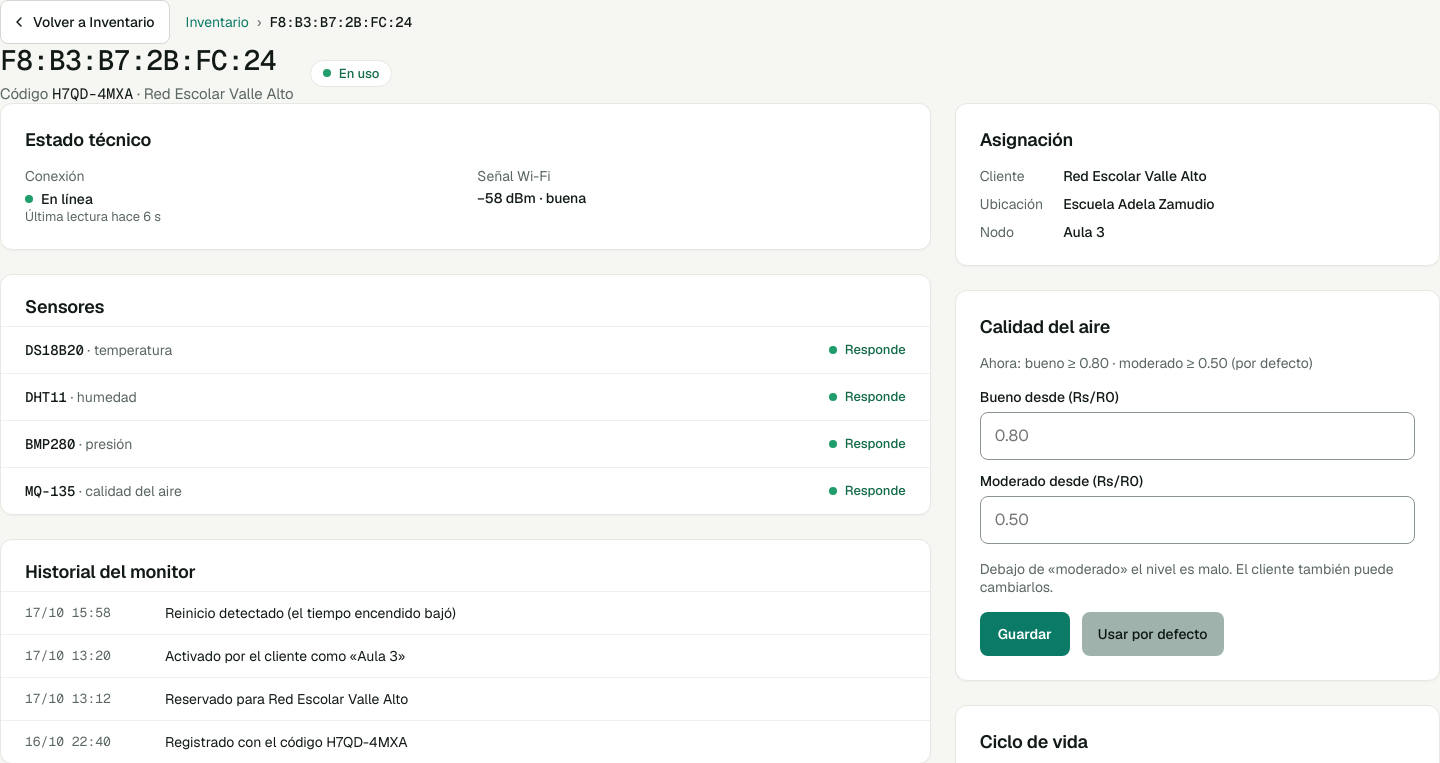
Test: MonitorFicha › guarda los cortes del aire del monitor y vuelve a los de por defecto
Expected: the heading "F8:B3:B7:2B:FC:24" is shown, [0, 44, 294, 78]
Expected: the element "Calidad del aire" shows "bueno ≥ 0.80 · moderado ≥ 0.50 (por defecto)", [1025, 354, 1313, 372]
Type "0.5" into the field labelled "Bueno desde (Rs/R0)" at (1197, 436), box [980, 412, 1415, 460]
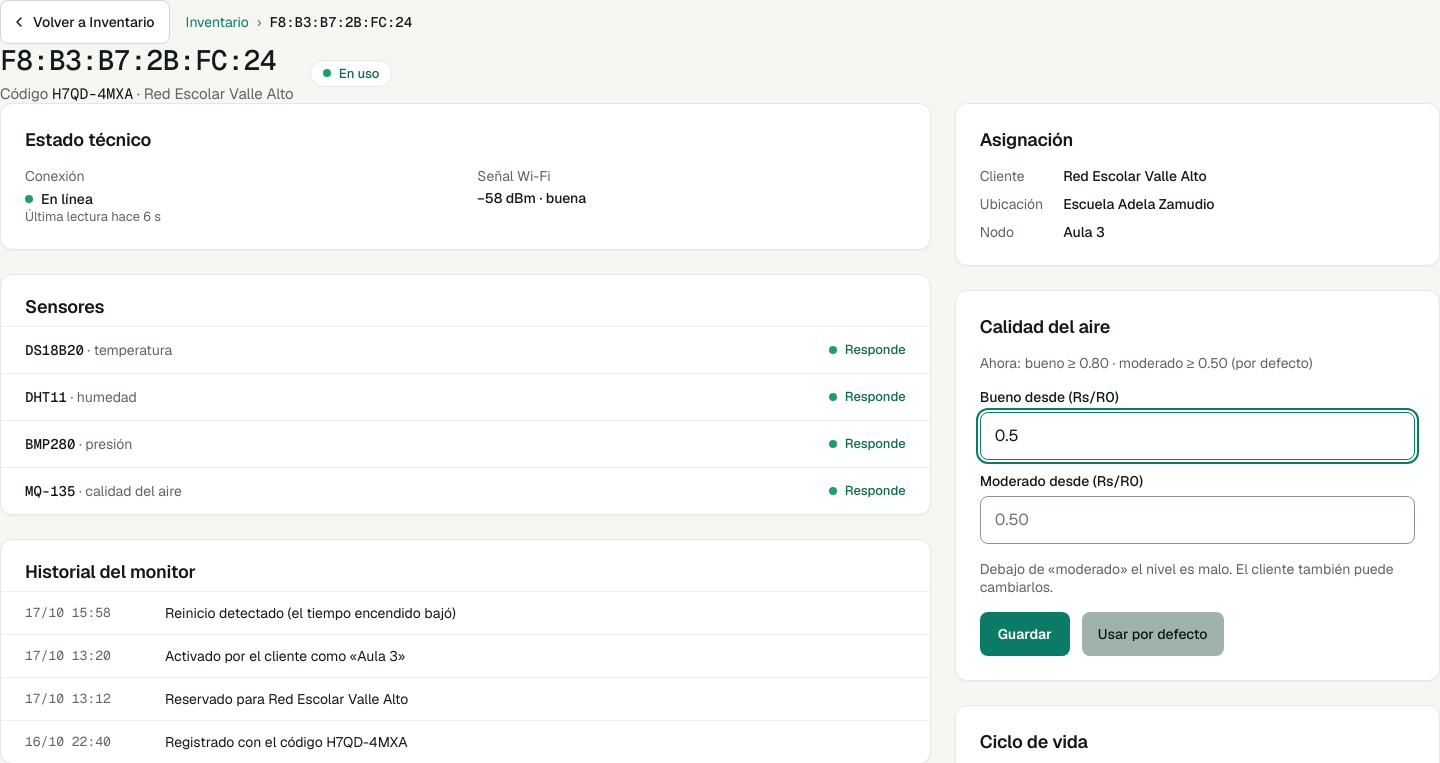
Type "0.6" into the field labelled "Moderado desde (Rs/R0)" at (1197, 520), box [980, 496, 1415, 544]
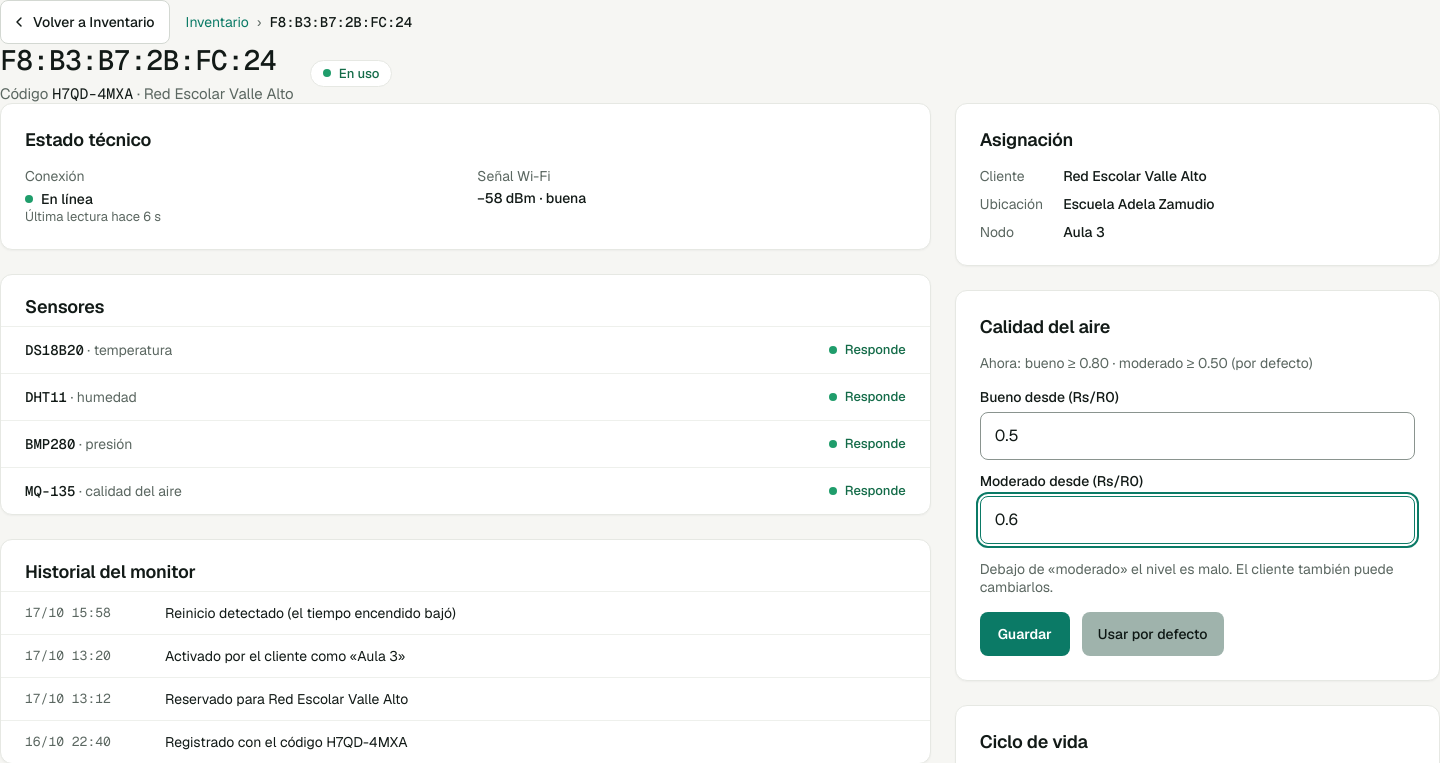
Click the button "Guardar" at (1025, 634), box [980, 612, 1070, 656]
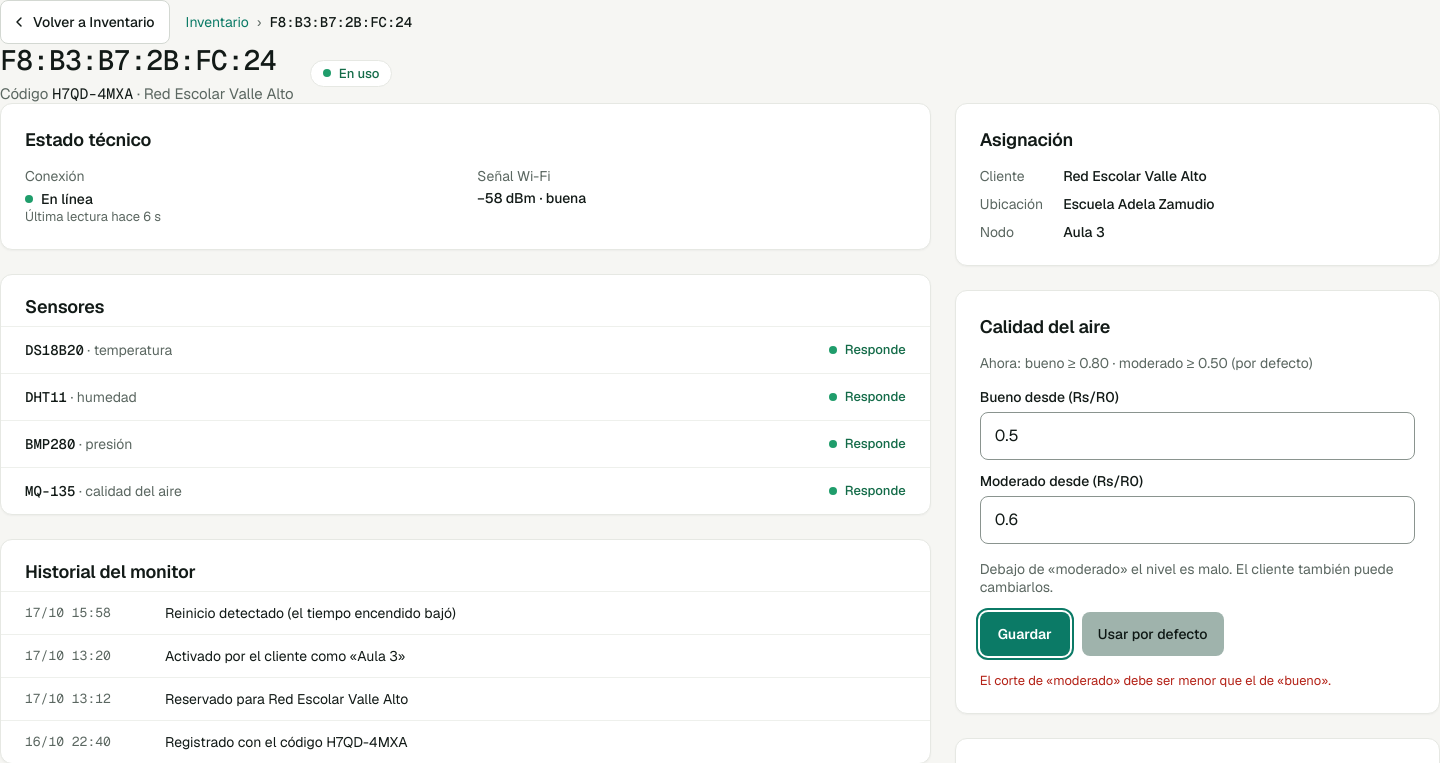
Now the message shows "debe ser menor", box [980, 672, 1331, 689]
Replace the text in the field labelled "Bueno desde (Rs/R0)" with "0.9" at (1197, 436), box [980, 412, 1415, 460]
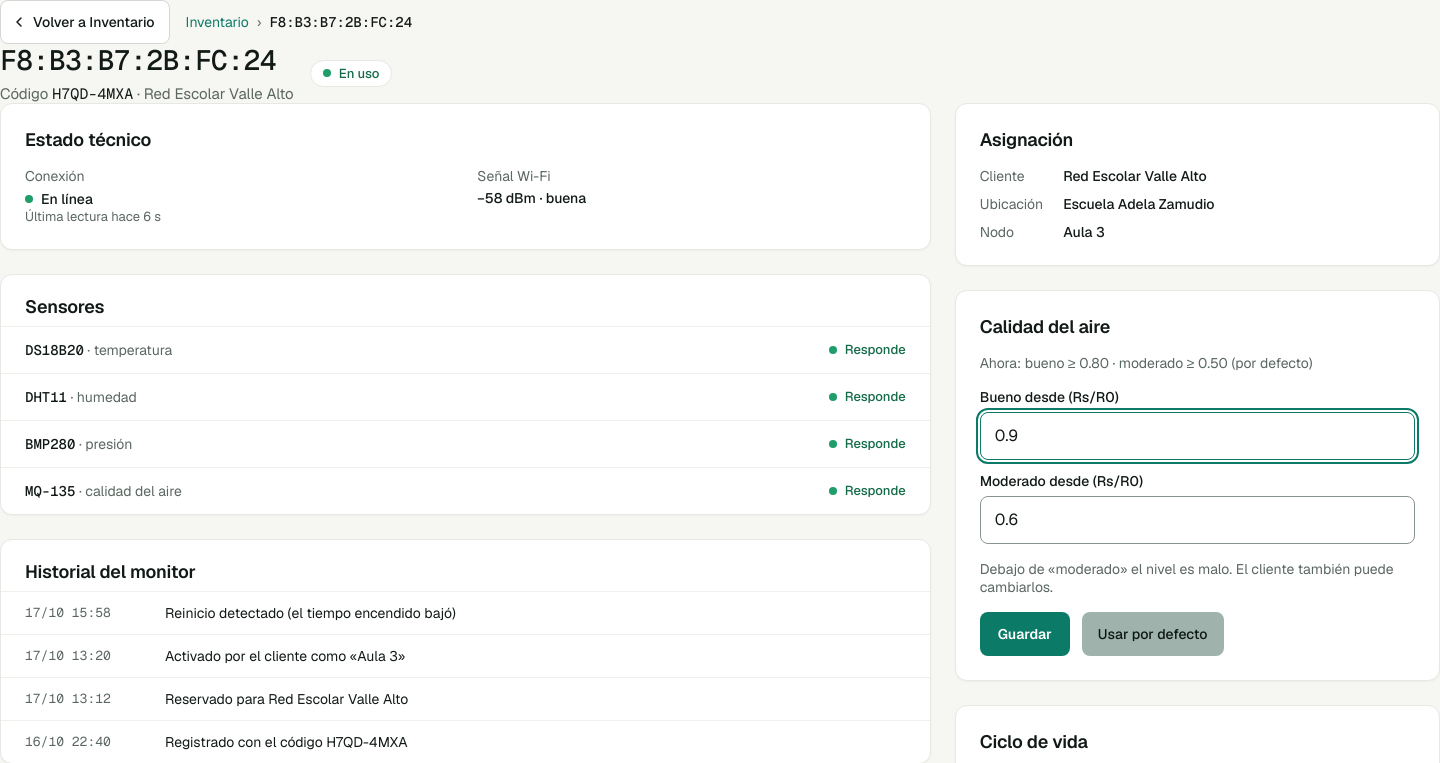
Click the button "Guardar" at (1025, 634), box [980, 612, 1070, 656]
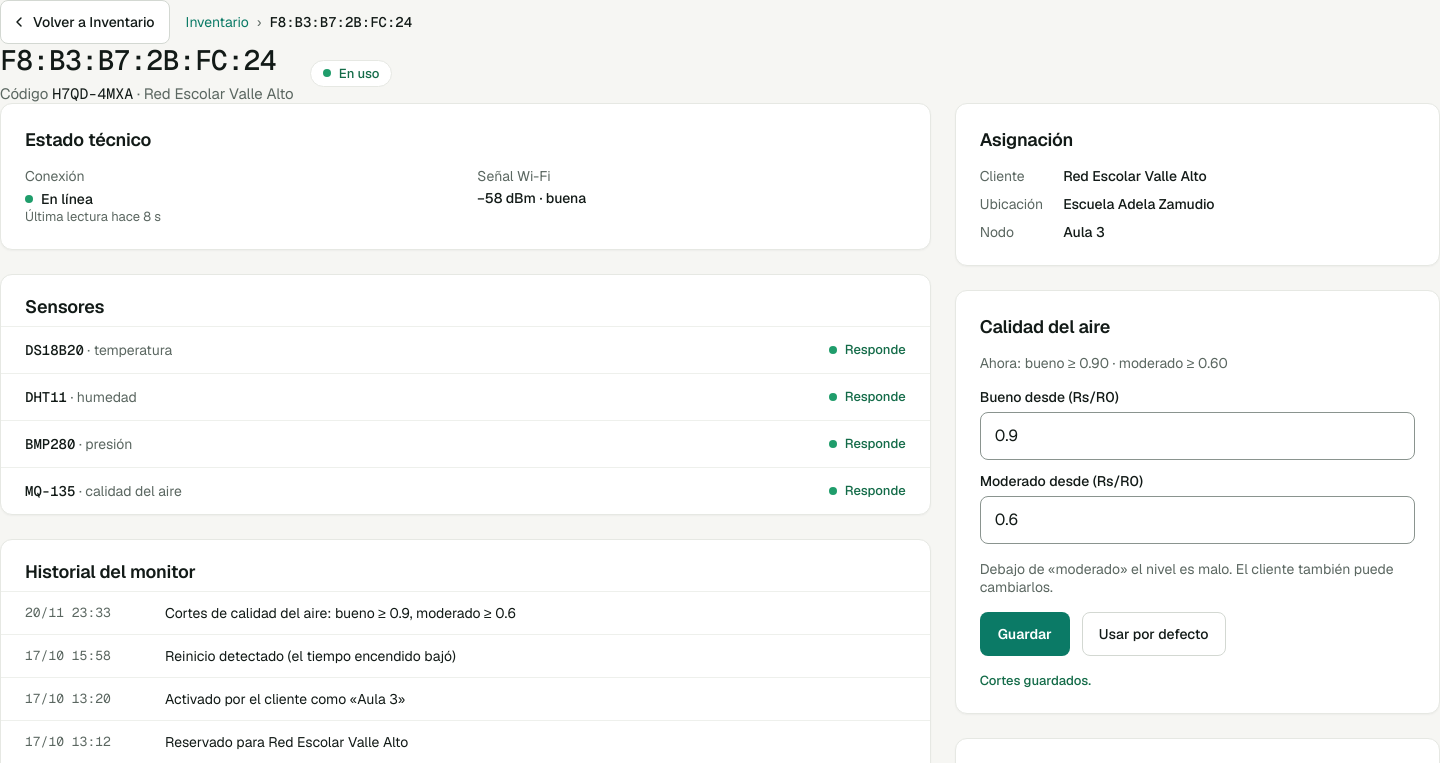
Now the text "Cortes guardados." is shown, box [980, 672, 1091, 689]
Now the element "Calidad del aire" shows "bueno ≥ 0.90 · moderado ≥ 0.60", box [1025, 354, 1228, 372]
Now the text "Cortes de calidad del aire: bueno ≥ 0.9, moderado ≥ 0.6" is shown, box [165, 604, 516, 622]
Click the button "Usar por defecto" at (1154, 634), box [1082, 612, 1226, 656]
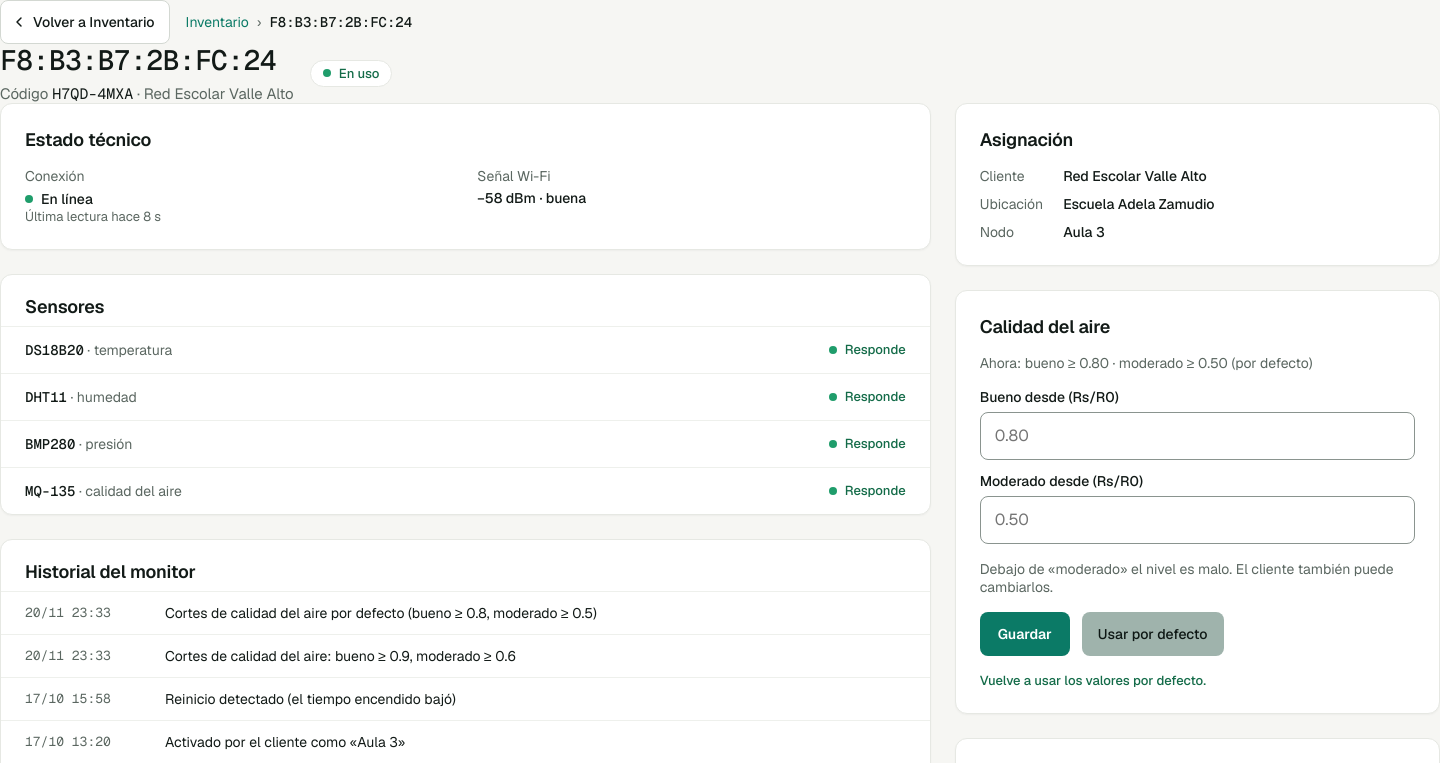
Now the text "Vuelve a usar los valores por defecto." is shown, box [980, 672, 1206, 689]
